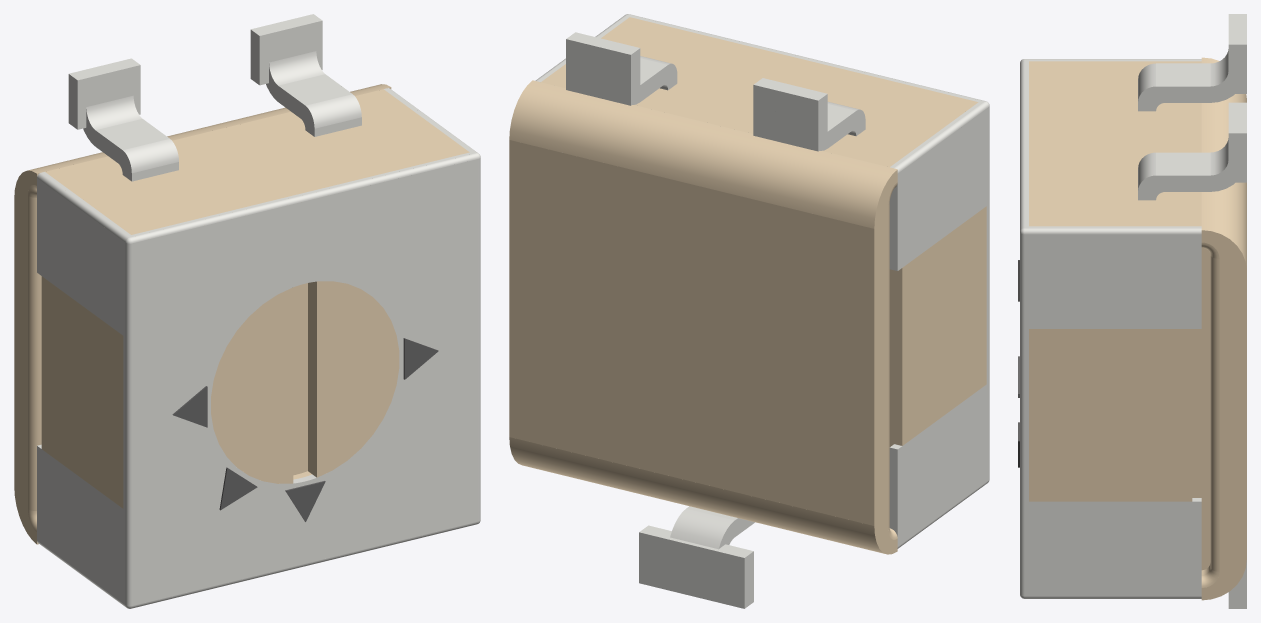
Rendered from Potentiometer_Bourns_3314G_Vertical.glb.
3 views of the same model, side by side, from view 1: azimuth 30°, elevation 25°; view 2: azimuth 150°, elevation 25°; view 3: azimuth 270°, elevation 25° (orthographic). The views are drawn at different scales.
Visible parts, largest first — view 1: Shape_IndexedFaceSet.003, Shape_IndexedFaceSet.071, Shape_IndexedFaceSet.064, Shape_IndexedFaceSet.021, Shape_IndexedFaceSet.020, Shape_IndexedFaceSet.087, Shape_IndexedFaceSet.041, Shape_IndexedFaceSet.066, Shape_IndexedFaceSet.091, Shape_IndexedFaceSet.075, Shape_IndexedFaceSet.011, Shape_IndexedFaceSet.134 (+21 smaller); view 2: Shape_IndexedFaceSet.085, Shape_IndexedFaceSet.093, Shape_IndexedFaceSet.071, Shape_IndexedFaceSet.064, Shape_IndexedFaceSet.061, Shape_IndexedFaceSet.041, Shape_IndexedFaceSet.087, Shape_IndexedFaceSet.066, Shape_IndexedFaceSet.159, Shape_IndexedFaceSet.167, Shape_IndexedFaceSet.172, Shape_IndexedFaceSet.088 (+11 smaller); view 3: Shape_IndexedFaceSet.074, Shape_IndexedFaceSet.071, Shape_IndexedFaceSet.096, Shape_IndexedFaceSet.107, Shape_IndexedFaceSet.083, Shape_IndexedFaceSet.151, Shape_IndexedFaceSet.093, Shape_IndexedFaceSet.118, Shape_IndexedFaceSet.106, Shape_IndexedFaceSet.102, Shape_IndexedFaceSet.137, Shape_IndexedFaceSet.144 (+21 smaller).
Part boxes in pixels (x1,y1,x2,y2): Shape_IndexedFaceSet.003: [132, 160, 478, 604]; Shape_IndexedFaceSet.071: [45, 89, 469, 234]; Shape_IndexedFaceSet.064: [41, 276, 123, 508]; Shape_IndexedFaceSet.021: [211, 287, 293, 483]; Shape_IndexedFaceSet.020: [317, 281, 399, 477]; Shape_IndexedFaceSet.087: [37, 178, 123, 335]; Shape_IndexedFaceSet.041: [37, 446, 123, 603]; Shape_IndexedFaceSet.066: [14, 170, 36, 544]; Shape_IndexedFaceSet.091: [28, 196, 40, 510]; Shape_IndexedFaceSet.075: [293, 283, 307, 475]; Shape_IndexedFaceSet.011: [134, 154, 474, 242]; Shape_IndexedFaceSet.134: [77, 65, 140, 129]; Shape_IndexedFaceSet.085: [509, 140, 874, 525]; Shape_IndexedFaceSet.093: [509, 80, 897, 228]; Shape_IndexedFaceSet.071: [541, 17, 978, 167]; Shape_IndexedFaceSet.064: [902, 206, 986, 445]; Shape_IndexedFaceSet.061: [509, 437, 886, 554]; Shape_IndexedFaceSet.041: [897, 384, 986, 546]; Shape_IndexedFaceSet.087: [897, 109, 986, 270]; Shape_IndexedFaceSet.066: [874, 170, 897, 554]; Shape_IndexedFaceSet.159: [639, 532, 744, 608]; Shape_IndexedFaceSet.167: [753, 85, 818, 151]; Shape_IndexedFaceSet.172: [566, 39, 630, 105]; Shape_IndexedFaceSet.088: [889, 268, 902, 446]; Shape_IndexedFaceSet.074: [1029, 329, 1192, 501]; Shape_IndexedFaceSet.071: [1029, 61, 1201, 226]; Shape_IndexedFaceSet.096: [1029, 501, 1201, 596]; Shape_IndexedFaceSet.107: [1029, 234, 1201, 328]; Shape_IndexedFaceSet.083: [1201, 230, 1246, 600]; Shape_IndexedFaceSet.151: [1192, 247, 1210, 570]; Shape_IndexedFaceSet.093: [1201, 57, 1246, 270]; Shape_IndexedFaceSet.118: [1210, 256, 1219, 571]; Shape_IndexedFaceSet.106: [1138, 161, 1234, 200]; Shape_IndexedFaceSet.102: [1138, 72, 1234, 111]; Shape_IndexedFaceSet.137: [1156, 63, 1210, 86]; Shape_IndexedFaceSet.144: [1156, 152, 1210, 175].
Size of the model in its own units: 1.77 by 2.44 by 0.9921.
